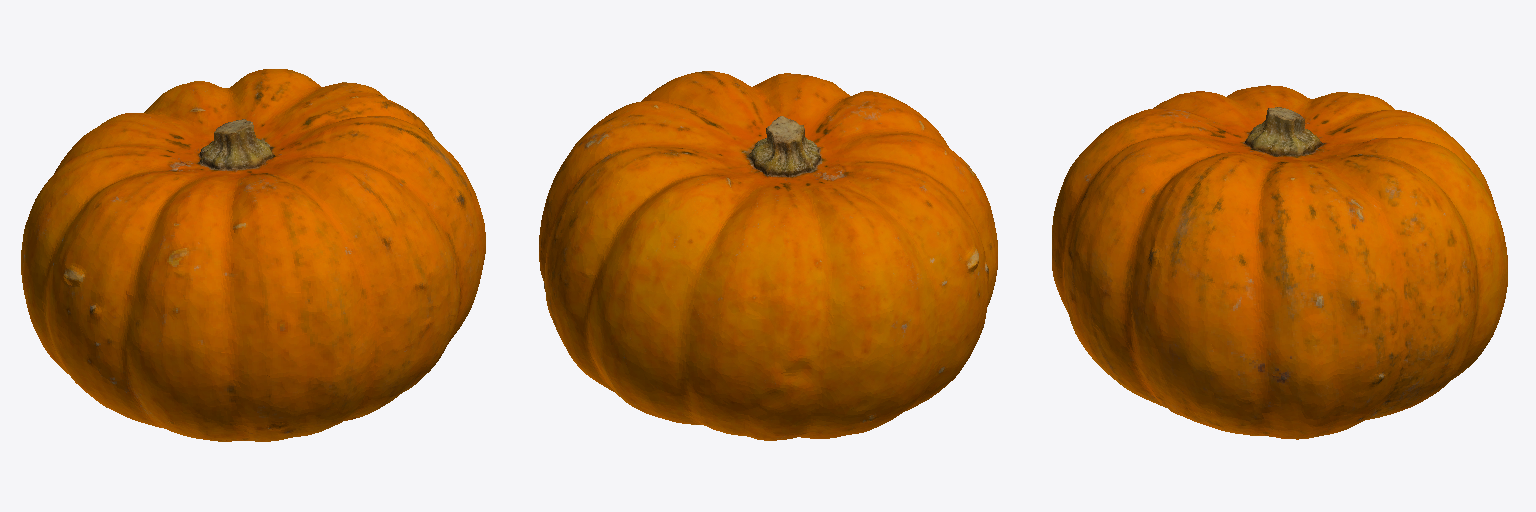
3 views of the same model, side by side, from view 1: azimuth 30°, elevation 25°; view 2: azimuth 150°, elevation 25°; view 3: azimuth 270°, elevation 25° (orthographic).
Visible parts, largest first — view 1: pumpkin_3; view 2: pumpkin_3; view 3: pumpkin_3.
Part boxes in pixels (x1,y1,x2,y2): pumpkin_3: (21, 69, 485, 441); pumpkin_3: (539, 71, 997, 440); pumpkin_3: (1052, 85, 1507, 439).
Bounding box in the file's own units: 9.16 × 6.05 × 9.04.
Materials: 1 (1 with a texture image).